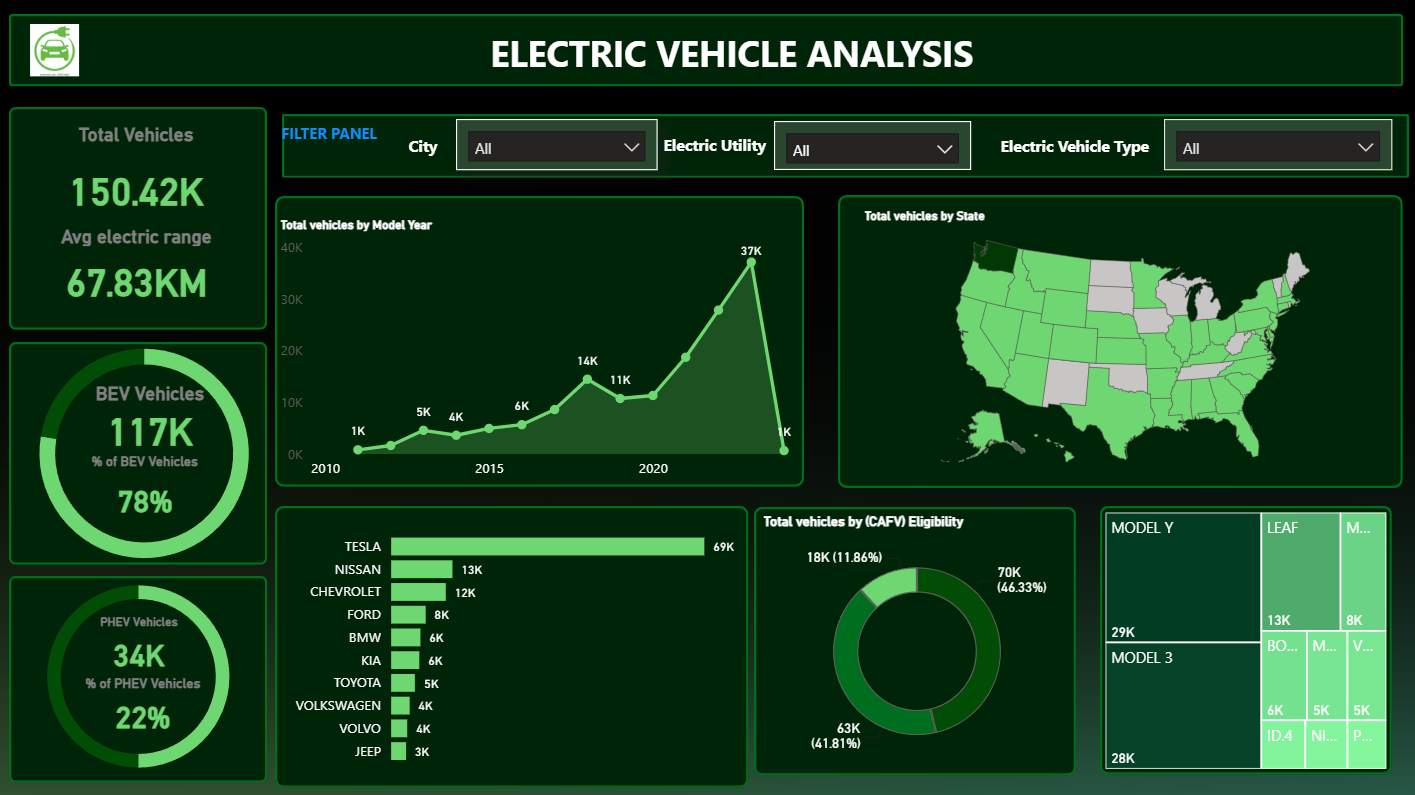

The dashboard page shown, as its layout file describes it:
{"tool":"powerbi","page":{"name":"report ","canvas":[1280,720],"ordinal":2},"visuals":[{"type":"shape","box":[682,458,289,241],"z":0},{"type":"shape","box":[252,457,425,253],"z":1000},{"type":"shape","box":[758,178,507,263],"z":2000},{"type":"shape","box":[13.3,98.3,231.7,200],"z":3000},{"type":"shape","box":[993,457,262,241],"z":4000},{"type":"shape","box":[13.3,15,1251.7,65],"z":5000},{"type":"textbox","box":[422.8,22.4,507.2,57.5],"z":6000},{"type":"card","title":"Total Vehicles","fields":{"Values":["Electric_Vehicle_Population_Dat.total vehicles"]},"box":[23.3,113.3,208.3,100],"z":7000},{"type":"card","title":"Avg electric range","fields":{"Values":["Electric_Vehicle_Population_Dat.Avg range"]},"box":[5,205,245,80],"z":8000},{"type":"shape","box":[13.6,310,231.8,200],"z":9000},{"type":"shape","box":[13.6,520,231.8,185.5],"z":10000},{"type":"donutChart","fields":{"Category":["Electric_Vehicle_Population_Dat.Electric Vehicle Type"],"Y":["Electric_Vehicle_Population_Dat.total vehicles"]},"box":[2,287,266,245],"z":11000},{"type":"donutChart","fields":{"Y":["Electric_Vehicle_Population_Dat.PHEV Vehicles"],"Category":["Electric_Vehicle_Population_Dat.Electric Vehicle Type"]},"box":[0,502.7,259.1,214.5],"z":12000},{"type":"card","title":"BEV Vehicles","fields":{"Values":["Electric_Vehicle_Population_Dat.BEV Vehicles"]},"box":[71.8,345.6,136.5,64.6],"z":13000},{"type":"card","title":"% of BEV Vehicles","fields":{"Values":["Electric_Vehicle_Population_Dat.% of BEV vehicals"]},"box":[71.8,410,127.3,69.1],"z":14000},{"type":"card","title":"PHEV Vehicles","fields":{"Values":["Electric_Vehicle_Population_Dat.PHEV Vehicles"]},"box":[60.9,554.5,138.2,58.2],"z":15000},{"type":"card","title":"% of PHEV Vehicles","fields":{"Values":["Electric_Vehicle_Population_Dat.% of PHEV vehicles2"]},"box":[71.8,610,123.6,58.2],"z":16000},{"type":"shape","box":[252,179,475,261],"z":17000},{"type":"lineChart","title":"Total vehicles by Model Year","fields":{"Category":["Electric_Vehicle_Population_Dat.Model Year"],"Y":["Electric_Vehicle_Population_Dat.total vehicles"]},"box":[252,198,475,243],"z":18000},{"type":"shapeMap","title":"Total vehicles by State","fields":{"Category":["Electric_Vehicle_Population_Dat.State"],"Value":["Electric_Vehicle_Population_Dat.total vehicles"]},"box":[776.6,190.3,478.5,243.3],"z":19000},{"type":"barChart","fields":{"Y":["Electric_Vehicle_Population_Dat.total vehicles"],"Category":["Electric_Vehicle_Population_Dat.Make"]},"box":[258.6,464.1,411.2,234.3],"z":20000},{"type":"donutChart","title":"Total vehicles by  (CAFV) Eligibility","fields":{"Category":["Electric_Vehicle_Population_Dat.Clean Alternative Fuel Vehicle (CAFV) Eligibility"],"Y":["Electric_Vehicle_Population_Dat.total vehicles"]},"box":[685.9,464.1,285.5,233.4],"z":21000},{"type":"treemap","fields":{"Group":["Electric_Vehicle_Population_Dat.Model"],"Values":["Electric_Vehicle_Population_Dat.total vehicles"]},"box":[993,458,262,240],"z":22000},{"type":"shape","box":[258.6,105,1011.8,57.5],"z":23000},{"type":"textbox","box":[253,109,116,36],"z":24000},{"type":"slicer","fields":{"Values":["Electric_Vehicle_Population_Dat.City"]},"box":[414.8,109.5,181.3,45.8],"z":25000},{"type":"slicer","fields":{"Values":["Electric_Vehicle_Population_Dat.Electric Utility"]},"box":[700.2,111.3,176.9,44],"z":26000},{"type":"slicer","fields":{"Values":["Electric_Vehicle_Population_Dat.Electric Vehicle Type"]},"box":[1050.4,109.5,204.7,45.8],"z":27000},{"type":"textbox","box":[367.2,119.4,47.6,35.9],"z":28000},{"type":"textbox","box":[596.1,118.5,152.6,36.8],"z":29000},{"type":"textbox","box":[898.7,119.4,188.5,48.5],"z":30000},{"type":"image","box":[5,24,98,47],"z":31000}]}

Visuals, with their boxes in screenshot pixels (x1, y1, x2, y2), scaled from the page's 1280x720 canvas onto the 1415x795 screenshot:
shape: crop(754, 506, 1073, 772)
shape: crop(279, 505, 748, 784)
shape: crop(838, 197, 1398, 487)
shape: crop(15, 109, 271, 329)
shape: crop(1098, 505, 1387, 771)
shape: crop(15, 17, 1398, 88)
textbox: crop(467, 25, 1028, 88)
"Total Vehicles" card: crop(26, 125, 256, 236)
"Avg electric range" card: crop(6, 226, 276, 315)
shape: crop(15, 342, 271, 563)
shape: crop(15, 574, 271, 779)
donutChart - Electric_Vehicle_Population_Dat.Electric Vehicle Type x Electric_Vehicle_Population_Dat.total vehicles: crop(2, 317, 296, 587)
donutChart - Electric_Vehicle_Population_Dat.PHEV Vehicles x Electric_Vehicle_Population_Dat.Electric Vehicle Type: crop(0, 555, 286, 792)
"BEV Vehicles" card: crop(79, 382, 230, 453)
"% of BEV Vehicles" card: crop(79, 453, 220, 529)
"PHEV Vehicles" card: crop(67, 612, 220, 677)
"% of PHEV Vehicles" card: crop(79, 674, 216, 738)
shape: crop(279, 198, 804, 486)
"Total vehicles by Model Year" lineChart: crop(279, 219, 804, 487)
"Total vehicles by State" shapeMap: crop(859, 210, 1387, 479)
barChart - Electric_Vehicle_Population_Dat.total vehicles x Electric_Vehicle_Population_Dat.Make: crop(286, 512, 740, 771)
"Total vehicles by  (CAFV) Eligibility" donutChart: crop(758, 512, 1074, 770)
treemap - Electric_Vehicle_Population_Dat.Model x Electric_Vehicle_Population_Dat.total vehicles: crop(1098, 506, 1387, 771)
shape: crop(286, 116, 1404, 179)
textbox: crop(280, 120, 408, 160)
slicer - Electric_Vehicle_Population_Dat.City: crop(459, 121, 659, 171)
slicer - Electric_Vehicle_Population_Dat.Electric Utility: crop(774, 123, 970, 171)
slicer - Electric_Vehicle_Population_Dat.Electric Vehicle Type: crop(1161, 121, 1387, 171)
textbox: crop(406, 132, 459, 171)
textbox: crop(659, 131, 828, 171)
textbox: crop(993, 132, 1202, 185)
image: crop(6, 26, 114, 78)
